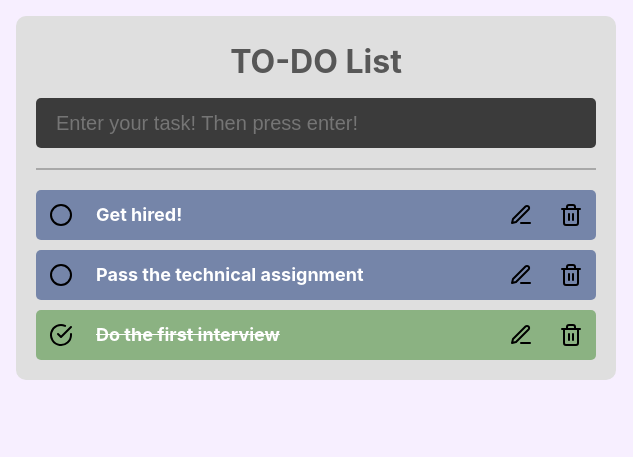
Test case: TodoApp › can add todo
Type "Water the plants" into the field with test id "new-task-input".
click(316, 123); type("Water the plants")  # box [36,98,596,148]
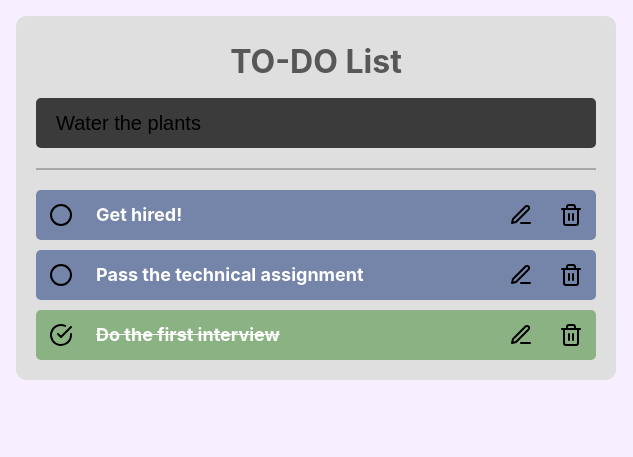
Submit the form from the field with test id "new-task-input", box [36,98,596,148]
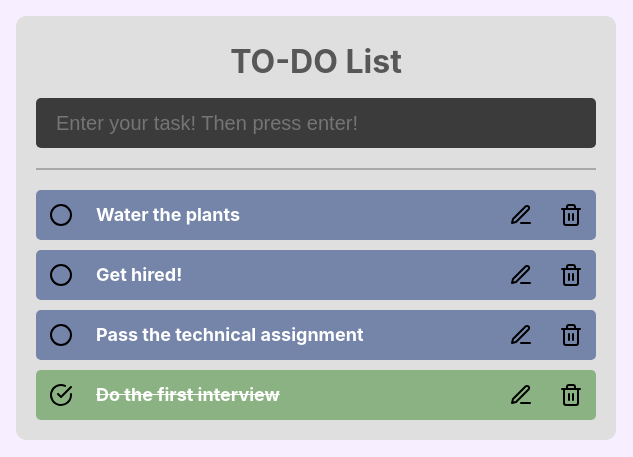
Check: the text "Water the plants" is shown, box [96,204,240,225]
